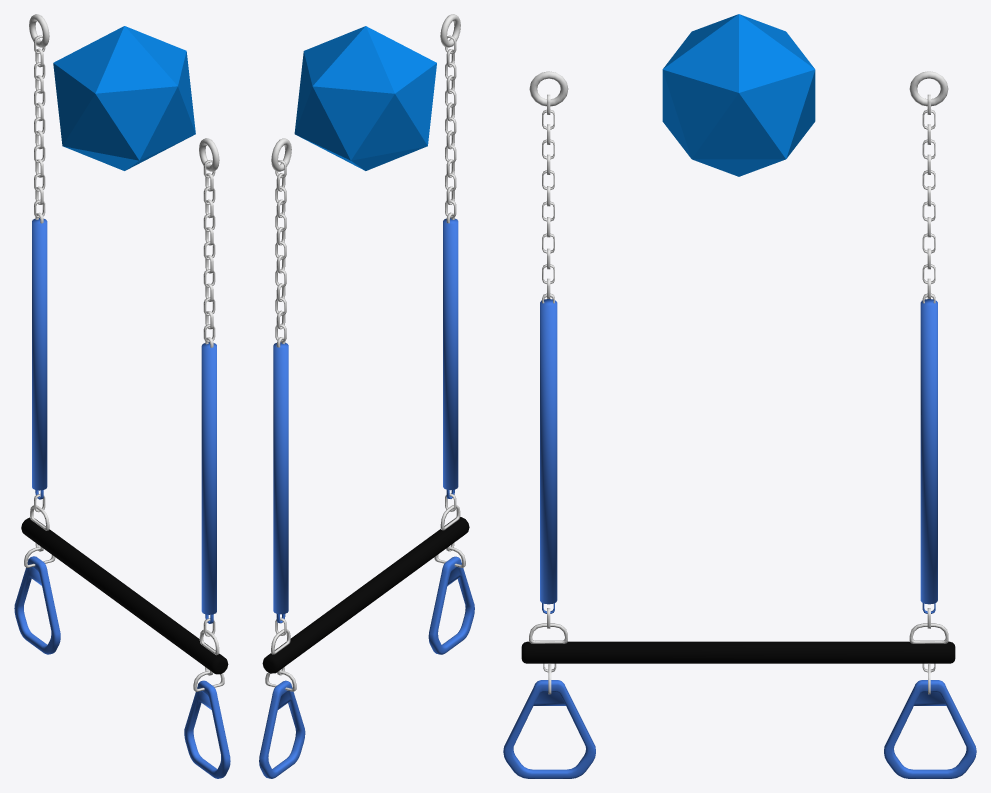
Rendered from Trapeze swing.glb.
3 views of the same model, side by side, from view 1: azimuth 30°, elevation 25°; view 2: azimuth 150°, elevation 25°; view 3: azimuth 270°, elevation 25° (orthographic). The views are drawn at different scales.
Parts seen in each view (by area): view 1: Cylinder.007, Joint.012, Torus; view 2: Cylinder.007, Joint.012, Torus; view 3: Cylinder.007, Joint.012, Torus.
Boxes of the visible parts, x1,y1,x2,y2 form: Cylinder.007: (14,35,230,778); Joint.012: (53,26,195,170); Torus: (29,14,219,171); Cylinder.007: (259,35,474,778); Joint.012: (294,26,436,170); Torus: (271,14,460,171); Cylinder.007: (503,94,976,778); Joint.012: (662,14,815,176); Torus: (529,71,948,106).
Size of the model in its own units: 0.2726 by 1.43 by 0.8021.
